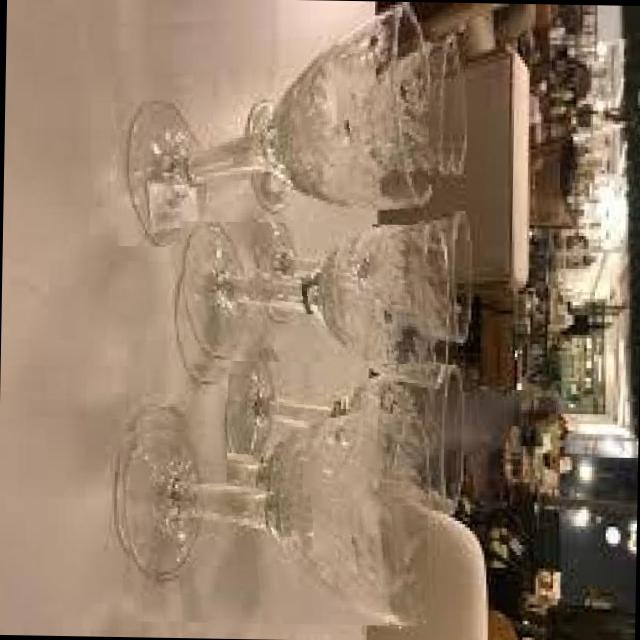Glass: (110, 0, 435, 251), (112, 412, 428, 626), (172, 221, 446, 396), (224, 360, 468, 510), (426, 34, 464, 184), (448, 210, 474, 344)
